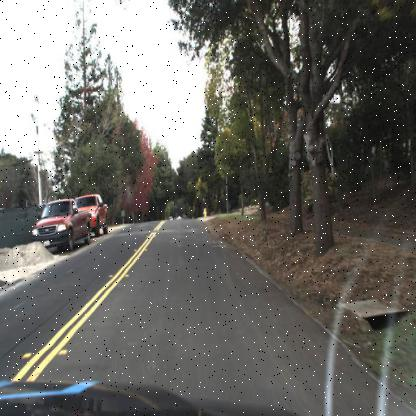car: (26, 197, 94, 255), (79, 191, 111, 240)
